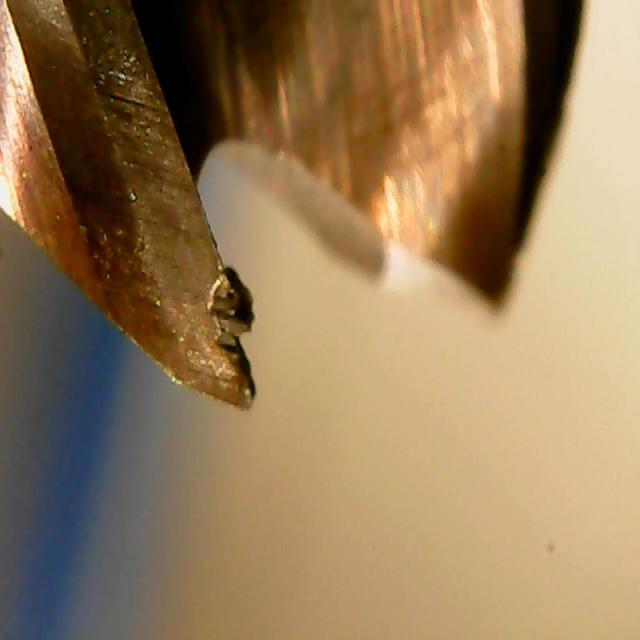Tool-wear-class-1: (92, 100, 284, 422)
